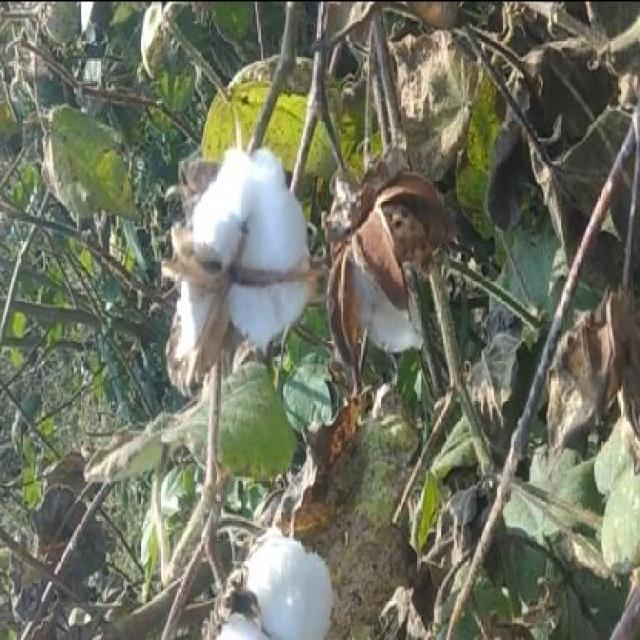cotton_ready: (167, 116, 333, 402)
